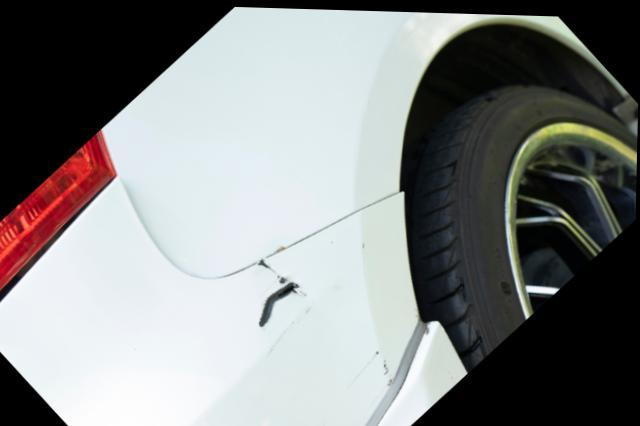crack: (278, 280, 300, 294)
scratch: (255, 255, 301, 326)
